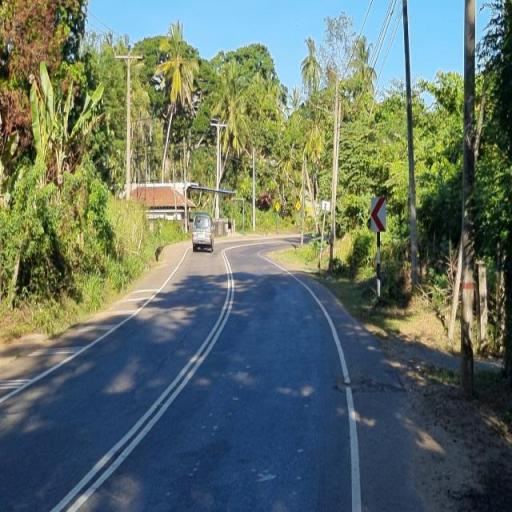double_white_line: (46, 246, 236, 510)
